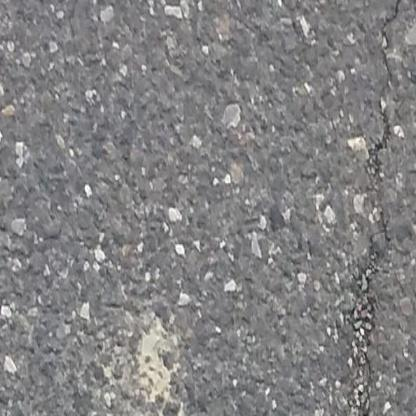Cracks: (344, 237, 384, 416), (377, 0, 407, 92), (365, 97, 395, 179)
